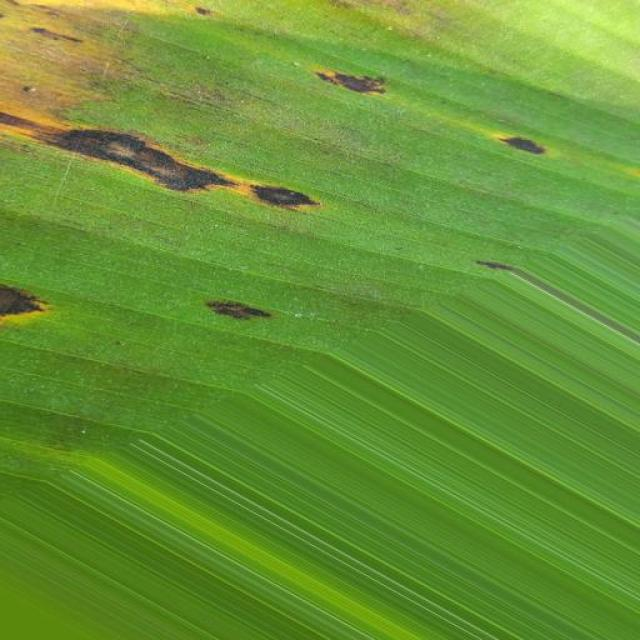Early_rust: (0, 3, 605, 380)
